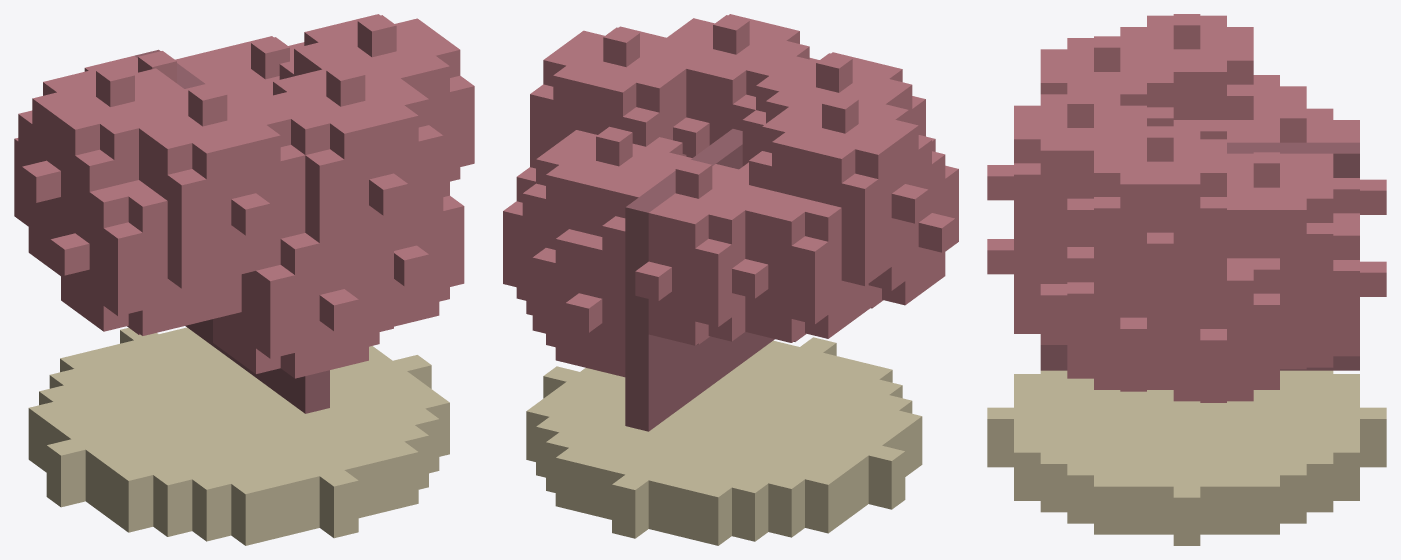
The picture shows the model from 3 angles, left to right: view 1: azimuth 30°, elevation 25°; view 2: azimuth 150°, elevation 25°; view 3: azimuth 270°, elevation 25°; orthographic projection. The views are drawn at different scales.
Visible parts, largest first — view 1: Neural core; view 2: Neural core; view 3: Neural core.
Boxes of the visible parts, x1=… form: Neural core: x1=14, y1=14, x2=474, y2=545; Neural core: x1=503, y1=14, x2=958, y2=545; Neural core: x1=987, y1=14, x2=1386, y2=545.
Bounding box in the file's own units: 1.36 × 1.28 × 1.2.
